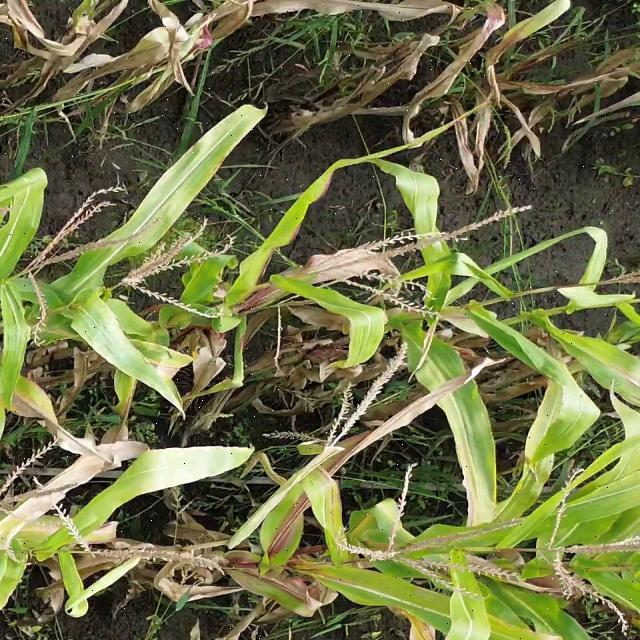northern-leaf-blight: (202, 161, 349, 306), (101, 330, 208, 414)
